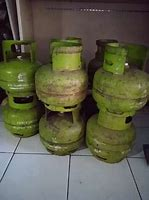gas_ijo: (93, 42, 149, 114), (35, 38, 88, 111), (87, 112, 137, 165), (1, 40, 42, 96), (37, 107, 85, 153), (2, 95, 45, 137)
